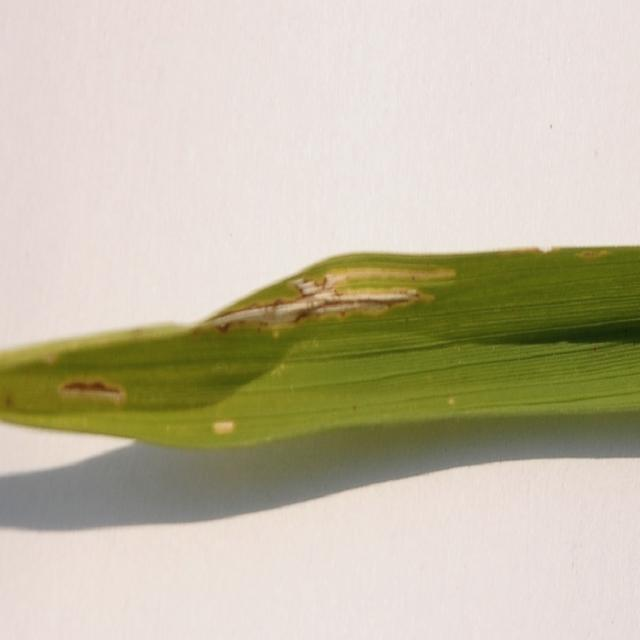leaf blight: (194, 251, 466, 352), (59, 363, 128, 413), (208, 404, 241, 448)
